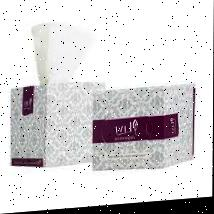cube: (90, 85, 195, 174)
